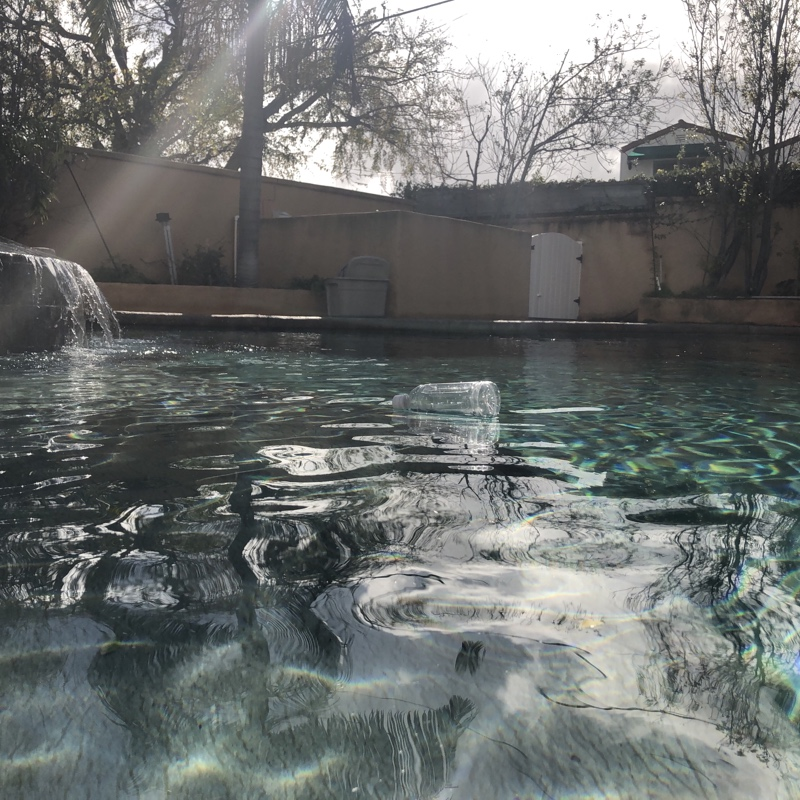Plastic Bottle: (387, 375, 502, 427)
